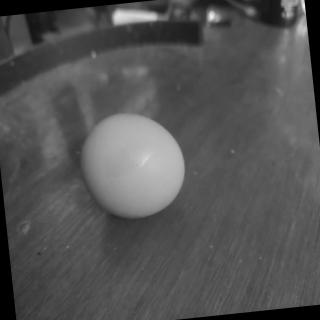Telur: (72, 106, 195, 227)
